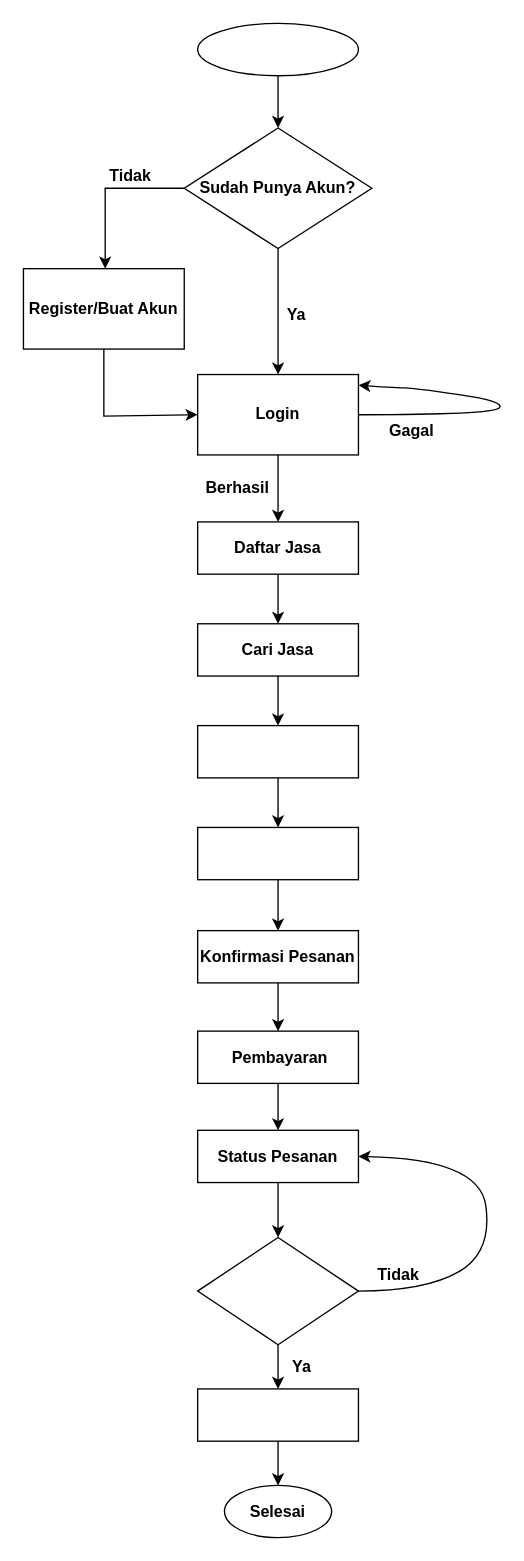
Some shapes in this 524 by 1561 pixel diagram are drawn without their labels. Each missing label, with the centre of its shape:
Lihat Detail Jasa: (x=277, y=751)
Mulai: (x=277, y=49)
Pesan Jasa: (x=277, y=853)
Rating: (x=277, y=1414)
Selesai?: (x=277, y=1290)
